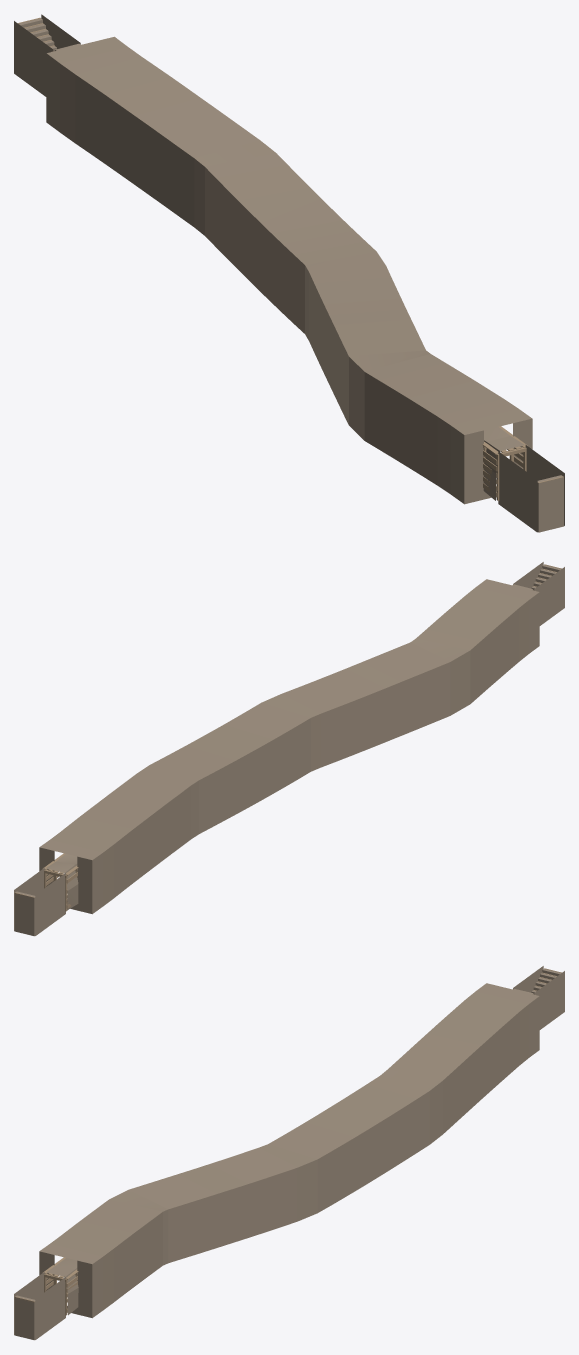
File: tunnel_b3_b4.glb
3 views of the same model, one above another, from view 1: azimuth 30°, elevation 25°; view 2: azimuth 150°, elevation 25°; view 3: azimuth 330°, elevation 25° (orthographic). The views are drawn at different scales.
Visible parts, largest first — view 1: tunnel_b3_b4__earth, tunnel_b3_b4__timber; view 2: tunnel_b3_b4__earth, tunnel_b3_b4__timber; view 3: tunnel_b3_b4__earth, tunnel_b3_b4__timber.
Boxes of the visible parts, x1,y1,x2,y2 form: tunnel_b3_b4__earth: [14, 14, 564, 532]; tunnel_b3_b4__timber: [17, 17, 563, 500]; tunnel_b3_b4__earth: [14, 562, 564, 936]; tunnel_b3_b4__timber: [15, 564, 561, 911]; tunnel_b3_b4__earth: [14, 966, 564, 1340]; tunnel_b3_b4__timber: [14, 968, 561, 1315].
Bounding box in the file's own units: 8.33 × 4.4 × 53.6.
